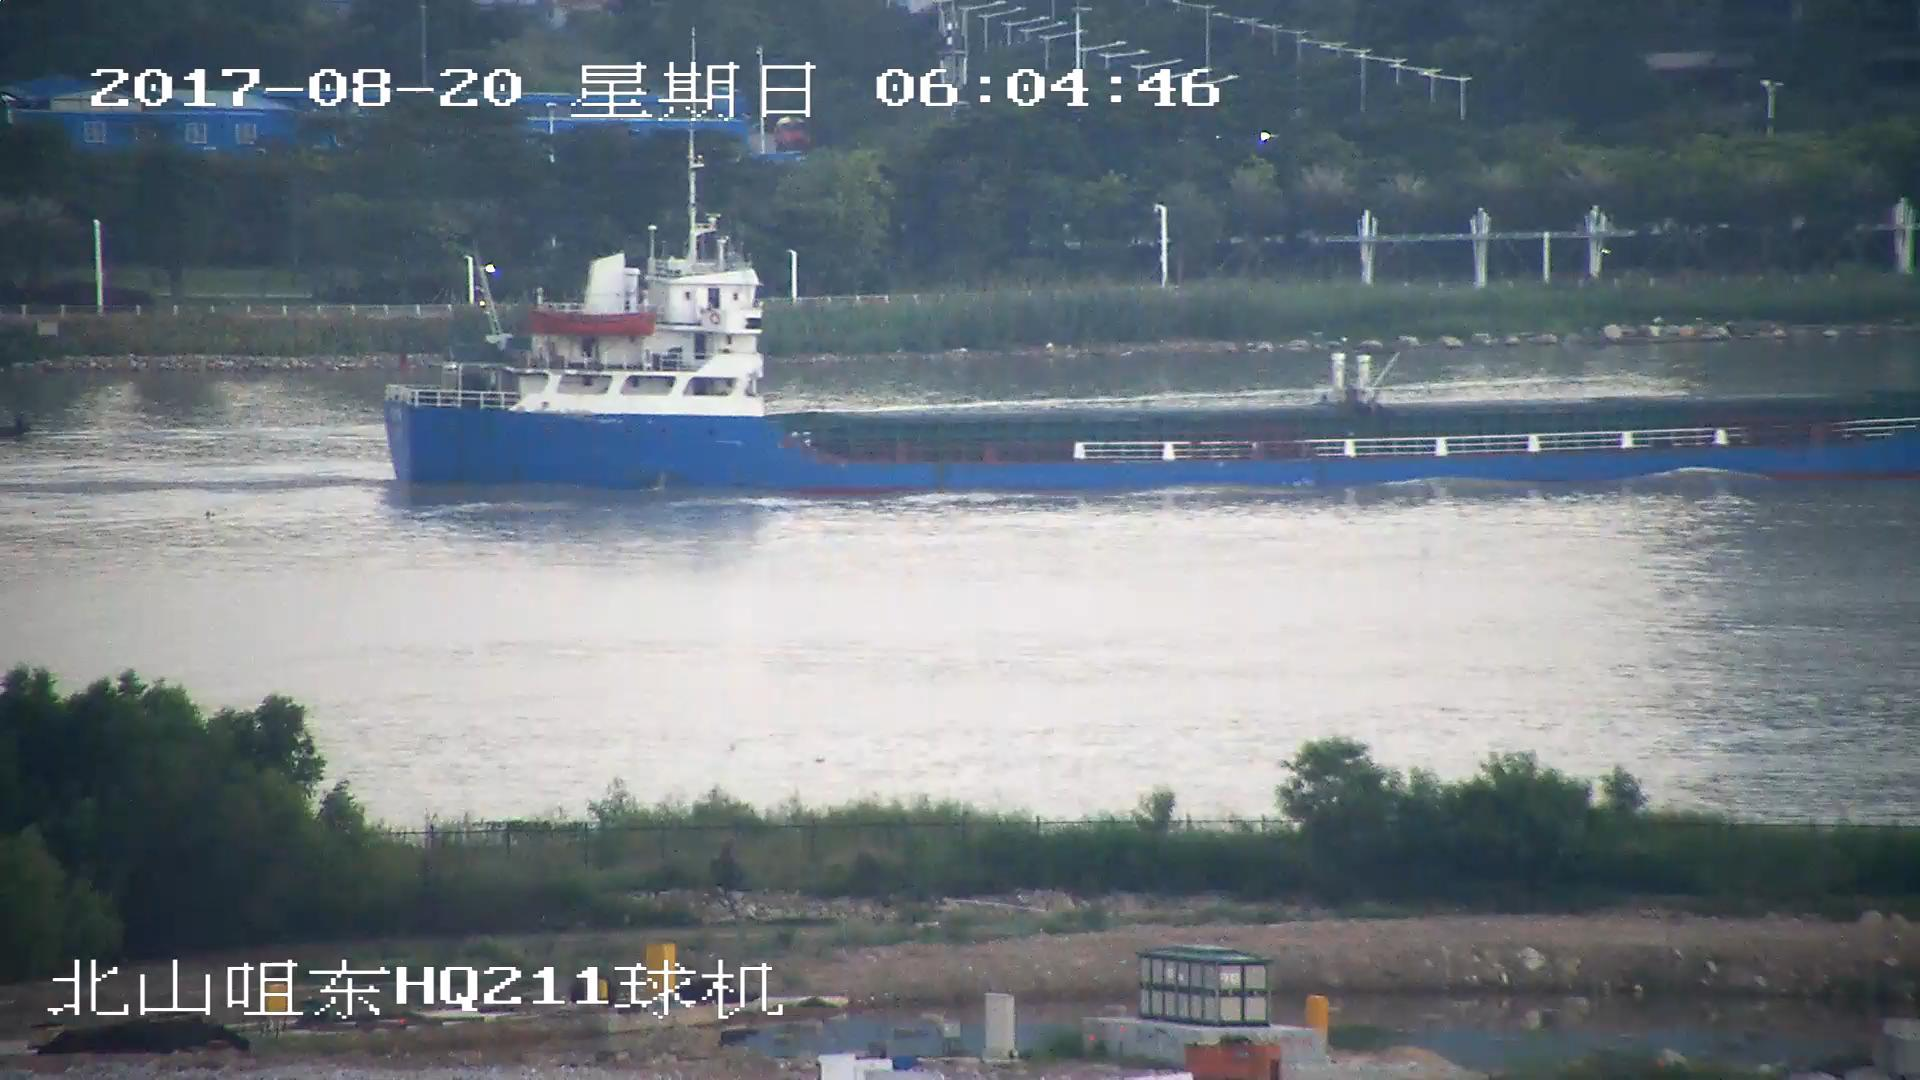Ship: (380, 214, 1920, 491)
